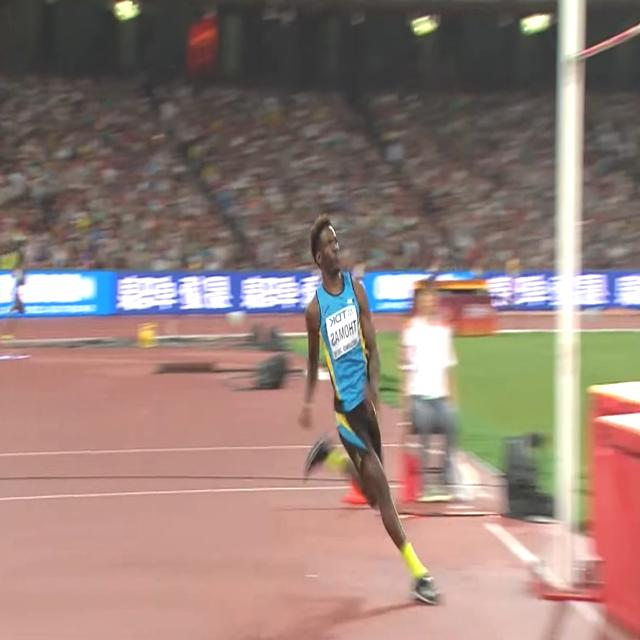run: (298, 209, 445, 604)
